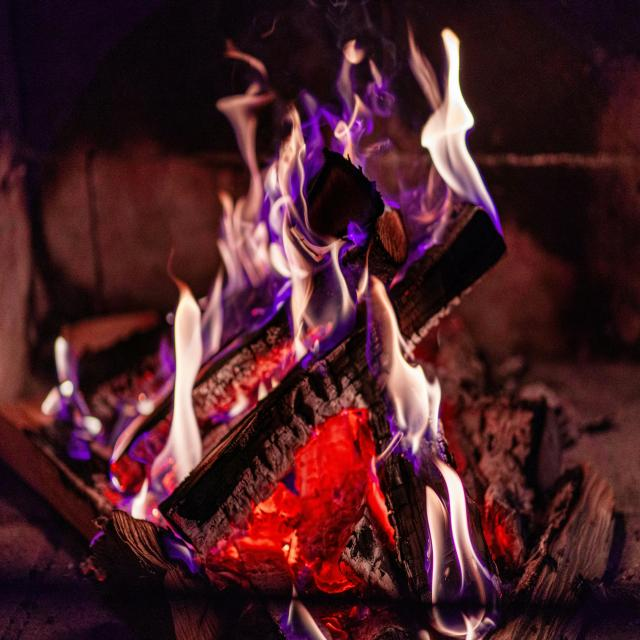fire: (357, 276, 489, 640), (216, 69, 341, 338), (343, 45, 500, 214), (130, 262, 205, 522)
